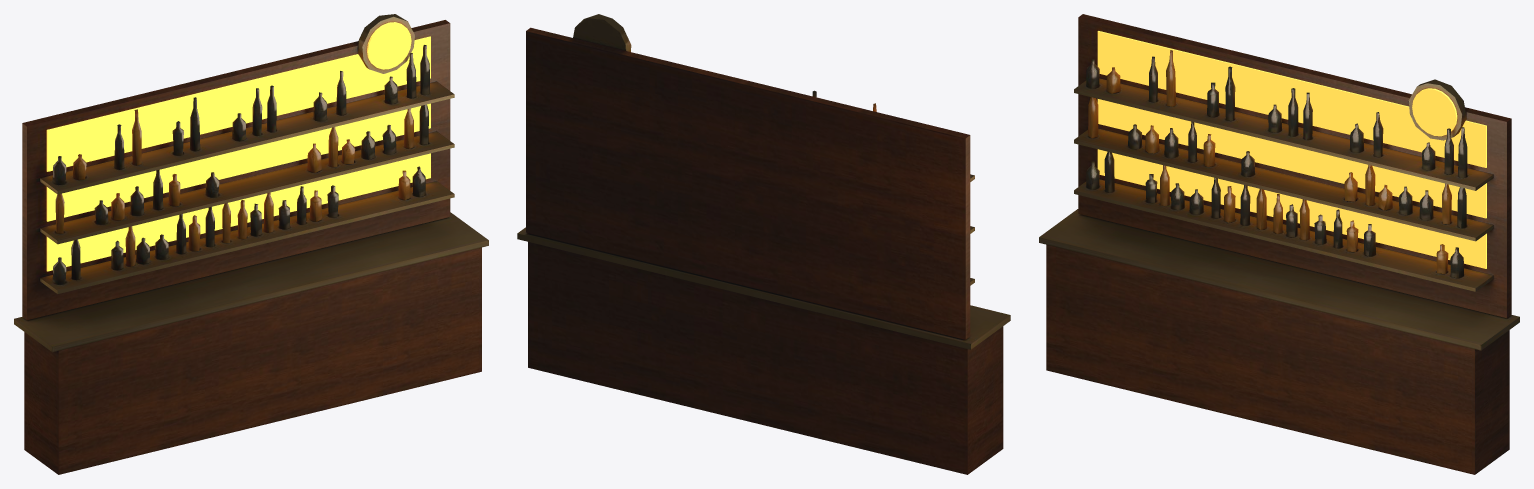
Rendered from cantina_back_bar_lod1.glb.
The picture shows the model from 3 angles, left to right: view 1: azimuth 30°, elevation 25°; view 2: azimuth 150°, elevation 25°; view 3: azimuth 330°, elevation 25°; orthographic projection. The views are drawn at different scales.
Parts seen in each view (by area): view 1: cantina_back_bar, cantina_back_bar_cantina_glow_backlight; view 2: cantina_back_bar; view 3: cantina_back_bar, cantina_back_bar_cantina_glow_backlight.
Boxes of the visible parts, x1,y1,x2,y2 form: cantina_back_bar: (14, 14, 488, 474); cantina_back_bar_cantina_glow_backlight: (46, 22, 430, 271); cantina_back_bar: (517, 14, 1010, 474); cantina_back_bar: (1039, 14, 1519, 474); cantina_back_bar_cantina_glow_backlight: (1097, 31, 1486, 268).
Size of the model in its own units: 3.3 by 2.53 by 0.4999.
2 materials, 1 textured.
